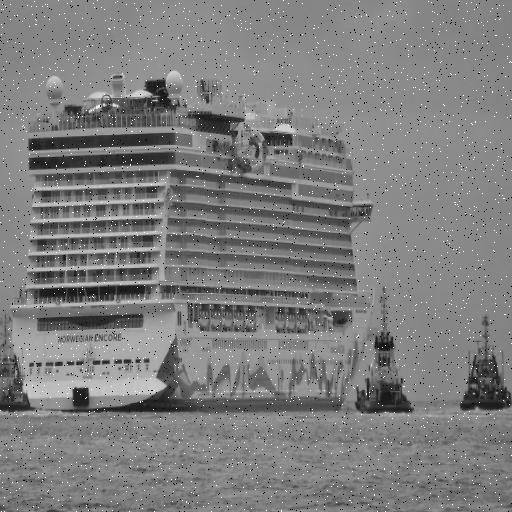cruises: (10, 42, 376, 416)
